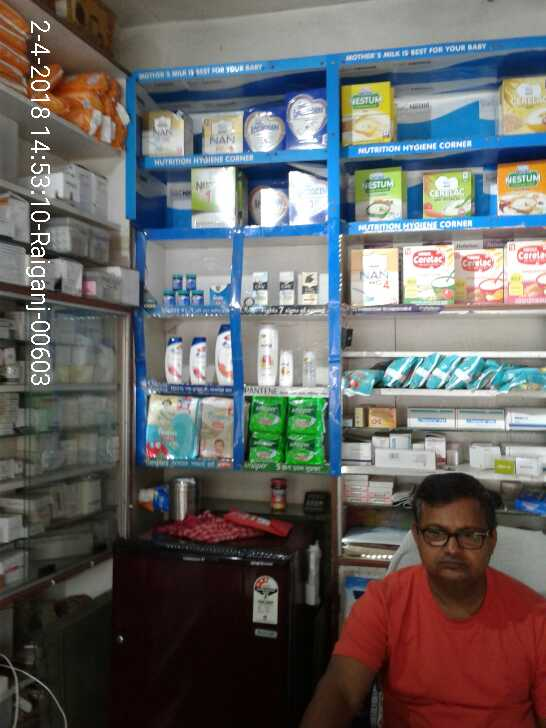vicks: (160, 272, 232, 309)
